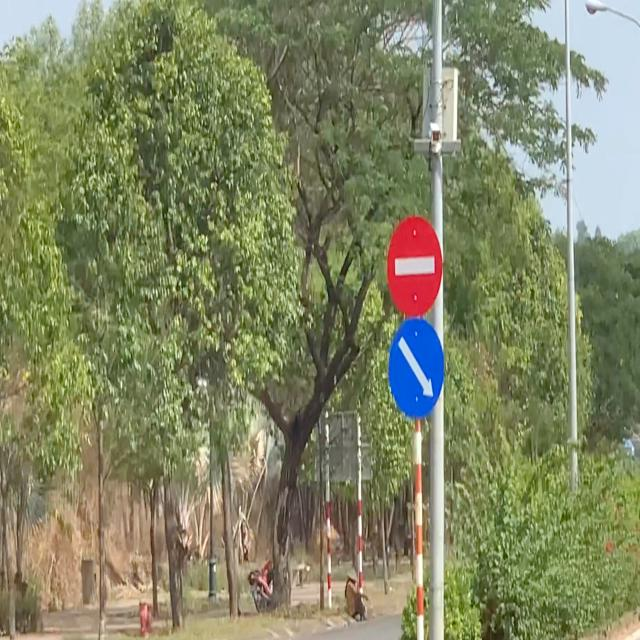Cam nguoc chieu: (385, 214, 445, 318)
Hieu lenh: (388, 317, 449, 420)
